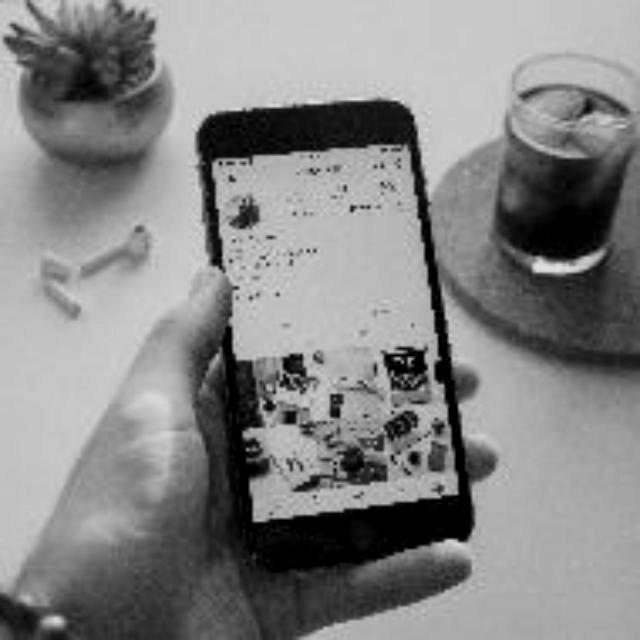fake: (184, 93, 486, 574)
